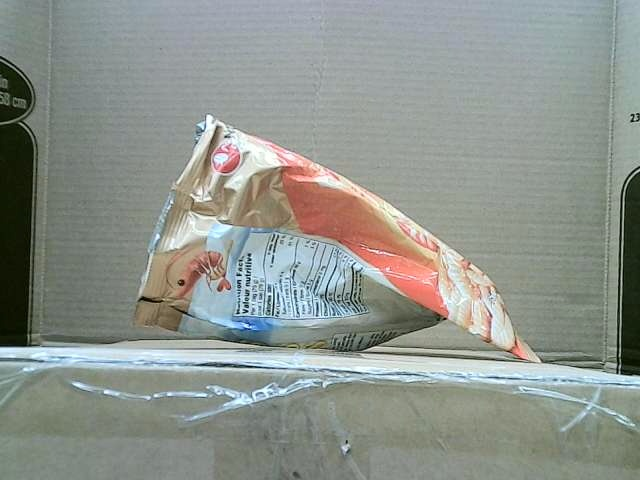Chips: (132, 114, 542, 365)
